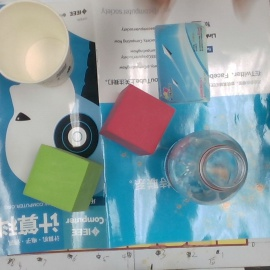bottle: (159, 130, 247, 203)
card: (154, 22, 211, 103)
cup: (1, 5, 81, 87)
